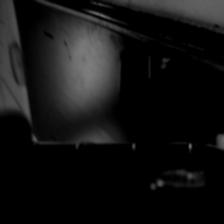Door Handle: (119, 39, 146, 105)
Lock: (152, 54, 180, 81)
